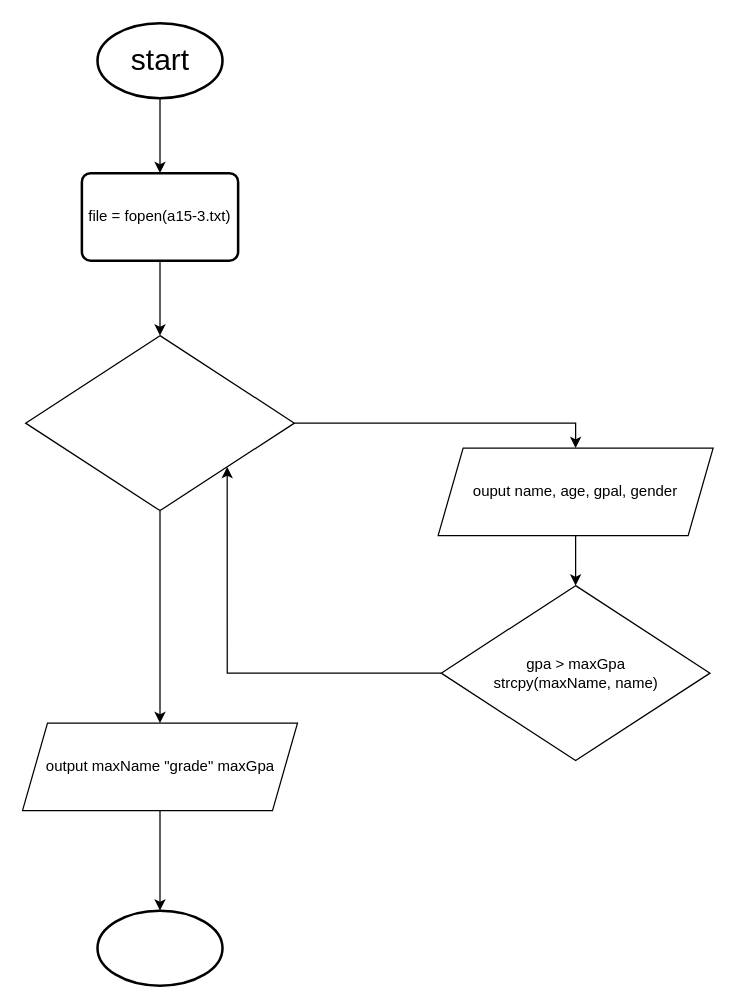
This 735x1008 diagram has some shape labels left out. The centre of each missing label's shape, as x and y in pixels:
end: (159,947)
while(name, age, gpa, gender = fscanf(file)): (159,422)
